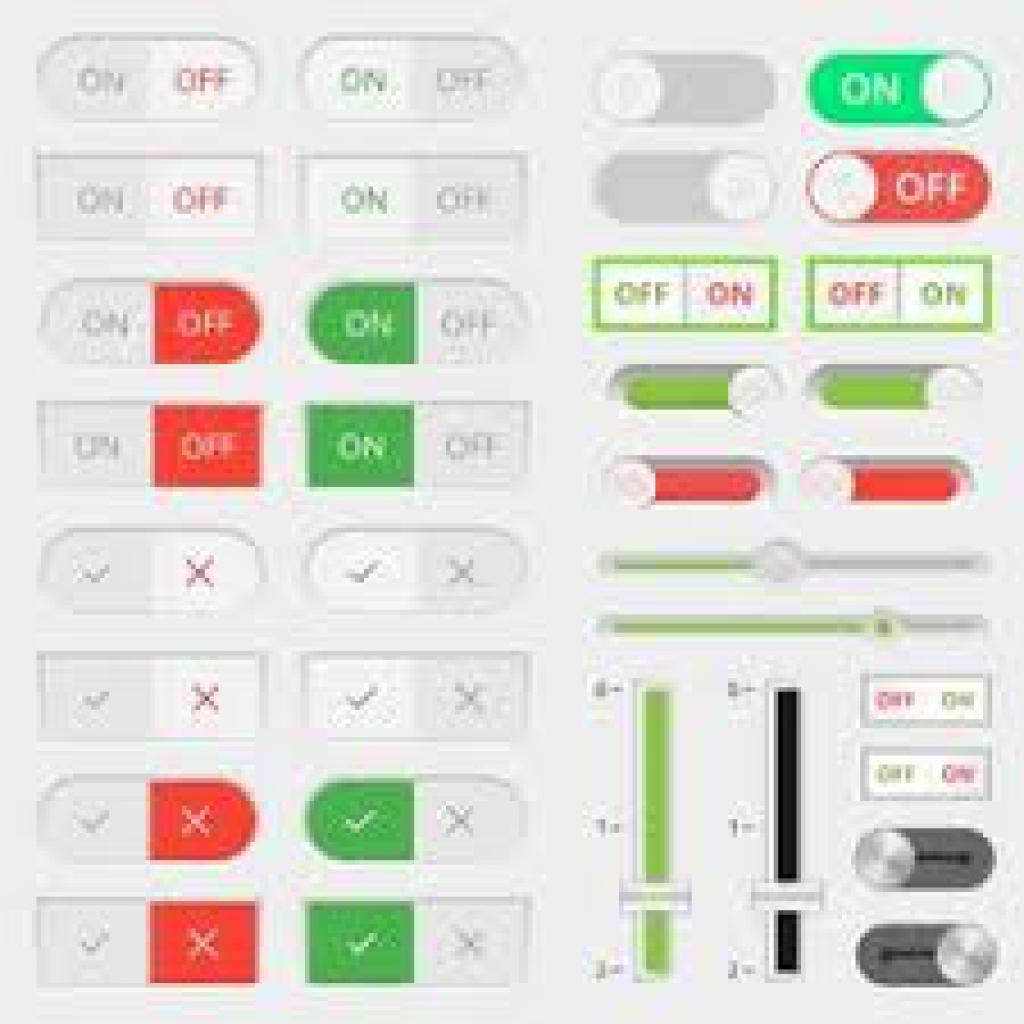slider: (584, 661, 706, 989), (730, 662, 834, 991), (596, 532, 997, 589), (593, 605, 1013, 659)
switch: (303, 396, 537, 499), (35, 394, 273, 493), (32, 146, 266, 246), (292, 150, 526, 247), (302, 649, 536, 746), (36, 273, 266, 370), (34, 33, 266, 129), (31, 893, 263, 988), (304, 771, 531, 866), (301, 274, 531, 367), (42, 523, 268, 617), (591, 135, 791, 241), (304, 523, 533, 614), (306, 896, 530, 989), (37, 651, 265, 742), (297, 40, 530, 128), (32, 777, 263, 863), (799, 139, 1001, 237), (808, 52, 1005, 135), (589, 52, 779, 131), (802, 255, 990, 333), (801, 444, 983, 518), (591, 262, 780, 333), (601, 356, 786, 427), (596, 449, 779, 517), (804, 357, 986, 425), (856, 916, 998, 991), (854, 823, 995, 898)
